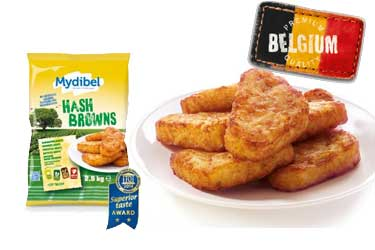triangle_hash_brown: (185, 77, 348, 183)
